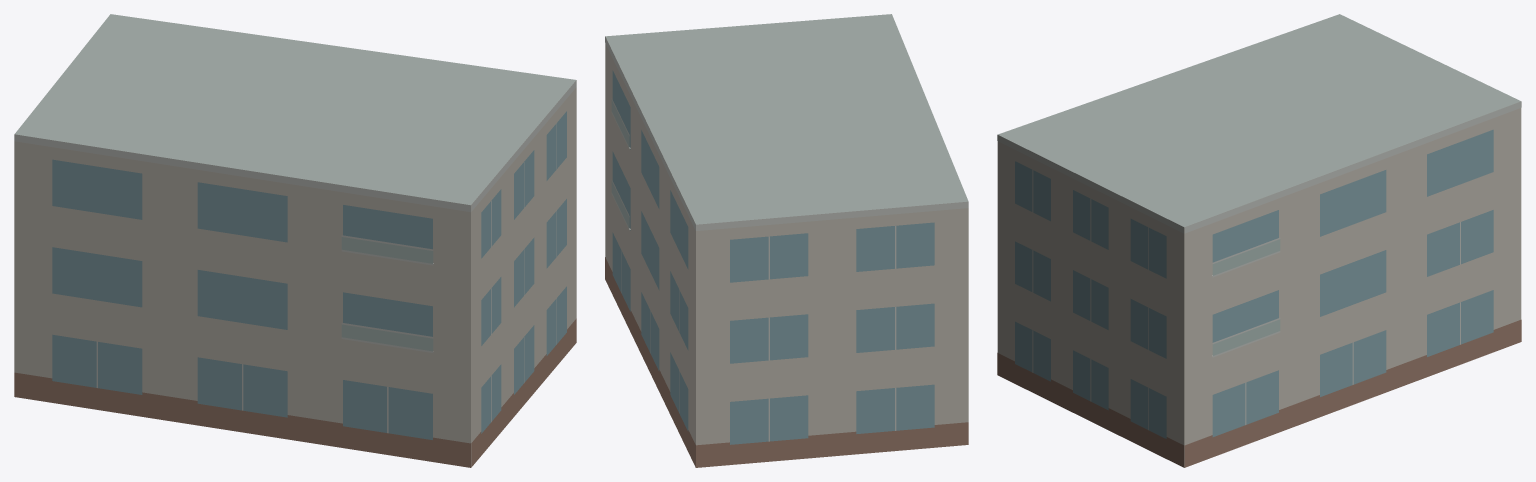
Rendered from survey-upis-32719464.glb.
3 renders of one model, left to right at view 1: azimuth 30°, elevation 25°; view 2: azimuth 150°, elevation 25°; view 3: azimuth 270°, elevation 25°, orthographic. The views are drawn at different scales.
Visible parts, largest first — view 1: survey-upis-32719464.tmp; view 2: survey-upis-32719464.tmp; view 3: survey-upis-32719464.tmp.
Boxes of the visible parts, left/top/right/bottom form: survey-upis-32719464.tmp: left=14, top=14, right=576, bottom=467; survey-upis-32719464.tmp: left=605, top=14, right=968, bottom=467; survey-upis-32719464.tmp: left=997, top=14, right=1521, bottom=467.
Bounding box in the file's own units: 17.41 × 9.15 × 18.07.
